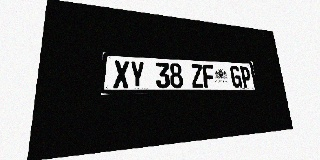3: (155, 62, 170, 88)
8: (169, 63, 183, 88)
F: (202, 64, 215, 88)
G: (230, 66, 242, 88)
P: (239, 66, 252, 87)
X: (113, 60, 129, 88)
Y: (130, 61, 145, 88)
Z: (190, 64, 204, 88)
